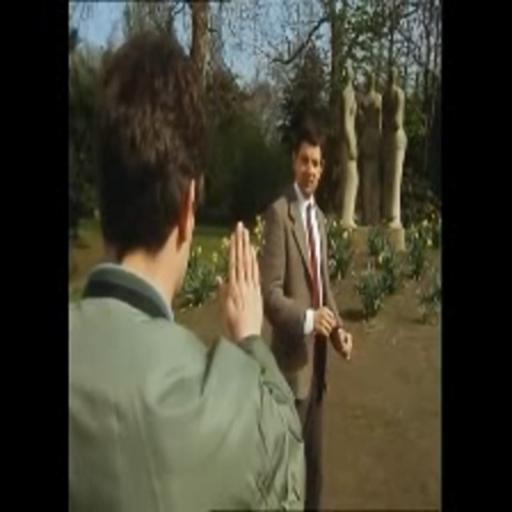nao-violencia: (68, 16, 370, 512)
